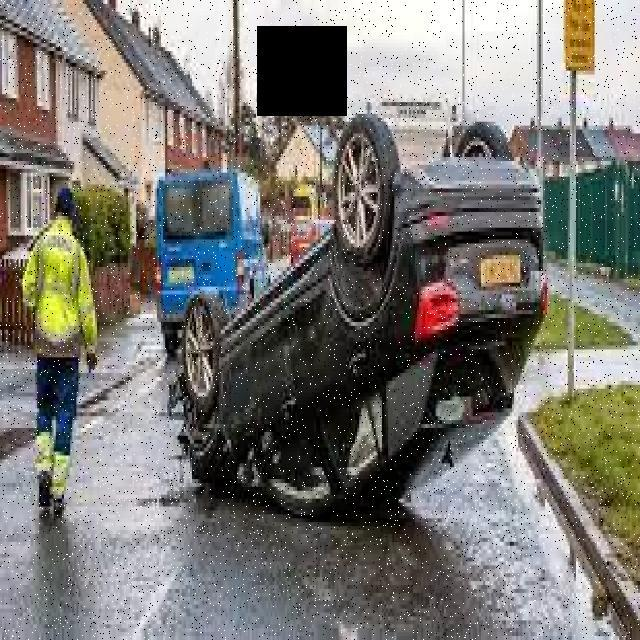severe: (177, 116, 550, 508)
